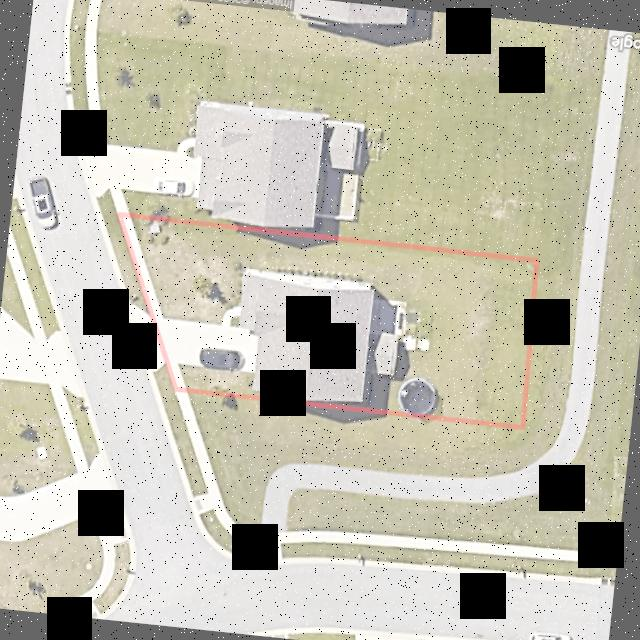Driveway: (154, 316, 257, 371)
Extra Driveway: (128, 302, 163, 370)
Extra Lawn: (188, 391, 523, 532), (284, 486, 517, 544), (279, 541, 511, 570), (157, 389, 207, 496), (100, 210, 149, 315), (197, 508, 262, 559), (152, 362, 172, 390)
Extra Sidewalk: (173, 390, 513, 559), (260, 462, 519, 531)
House: (238, 266, 396, 400)
Other: (396, 376, 435, 413), (369, 295, 404, 334), (401, 333, 428, 350), (146, 219, 160, 234)
Sidewalk: (121, 216, 162, 317), (219, 306, 240, 325), (169, 362, 183, 386)
